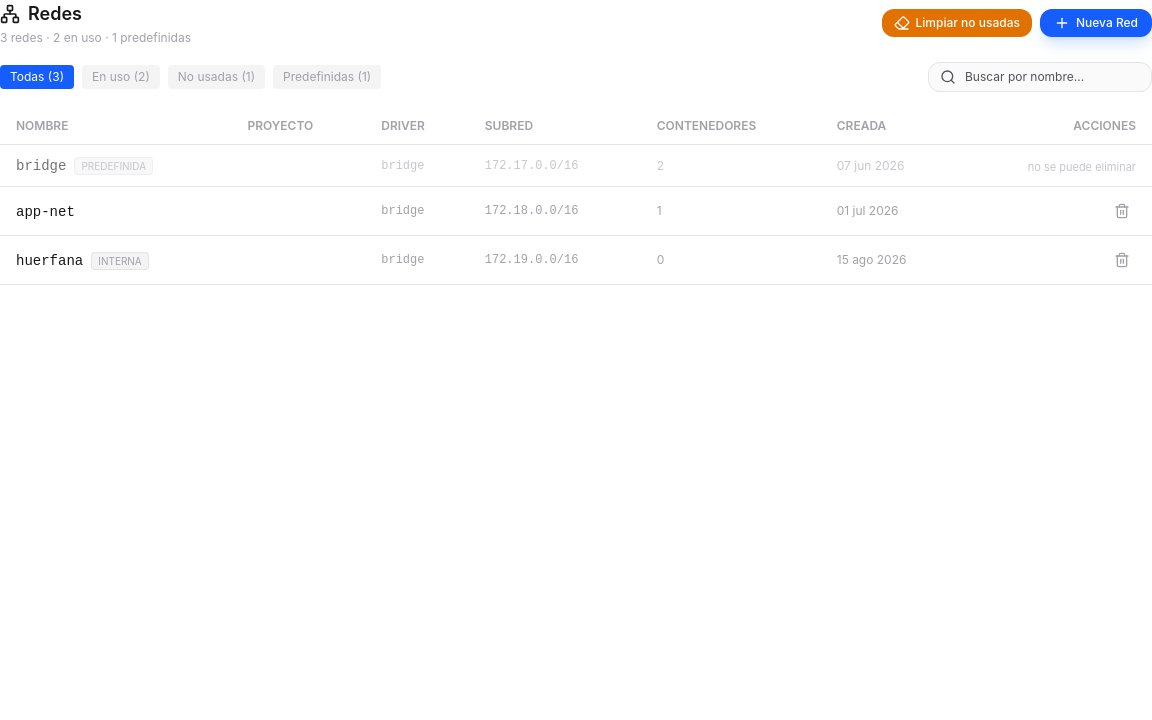
Scenario: NetworksView › explica cuántas redes se limpiarían antes de hacerlo
Expected: the button "huerfana" is shown, [16,250,83,270]
Step 1. Click the button "Limpiar no usadas" → (957, 23), box [882,9,1032,37]
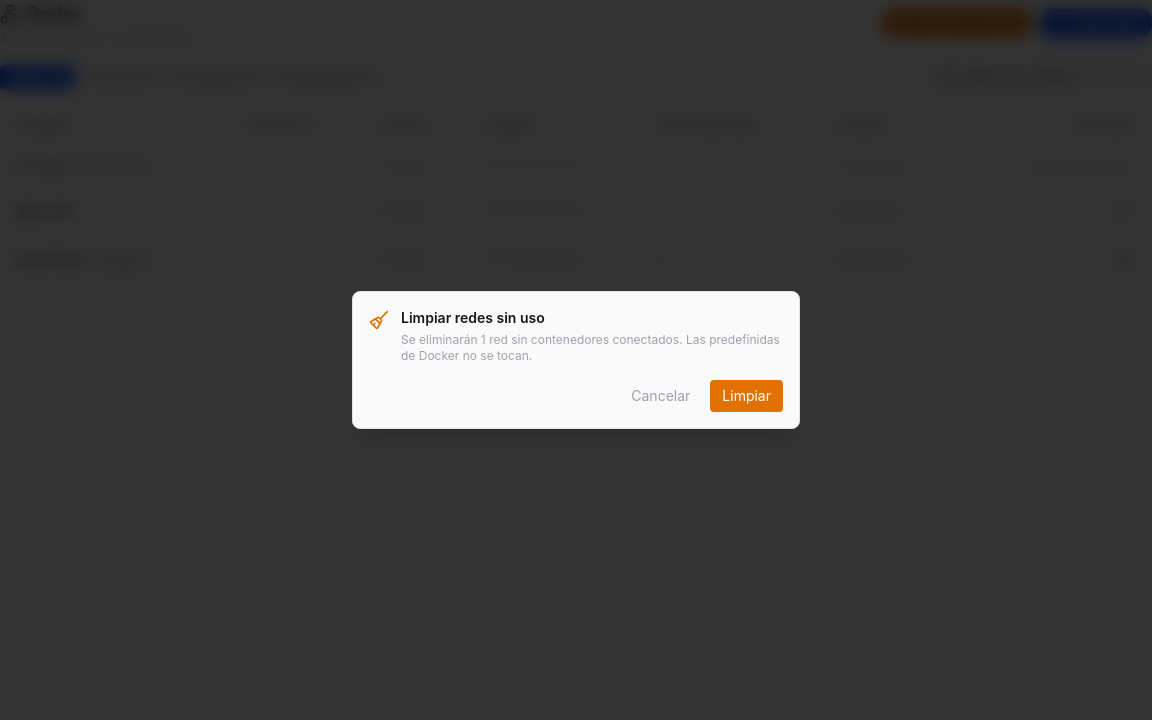
Now the text "1 red" is shown, box [401,332,783,364]
